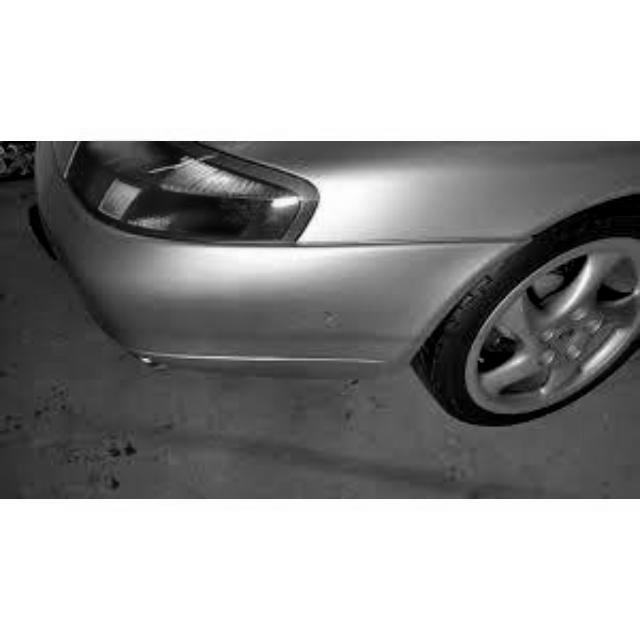quaterpanel-dent: (201, 240, 454, 387)
